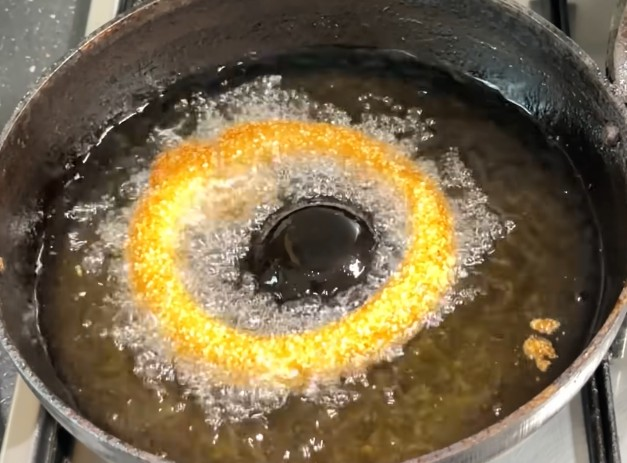sel_roti: (118, 116, 451, 372)
